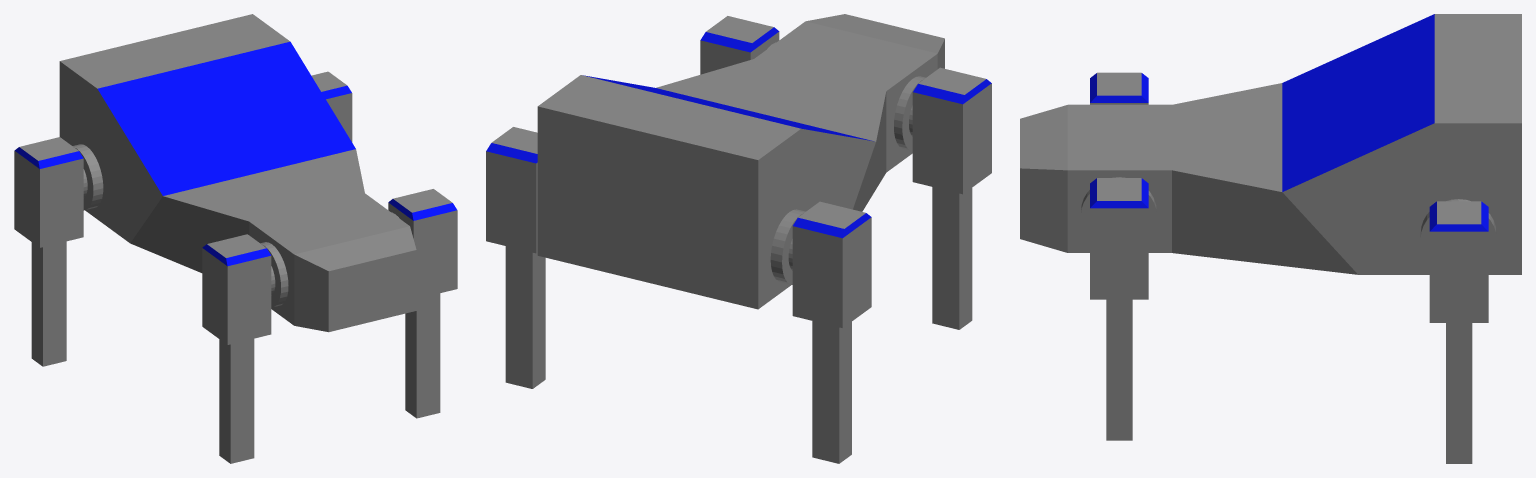
Rendered from LegWalker.fbx.
3 renders of one model, left to right at view 1: azimuth 30°, elevation 25°; view 2: azimuth 150°, elevation 25°; view 3: azimuth 270°, elevation 25°, orthographic. The views are drawn at different scales.
Visible parts, largest first — view 1: WalkerBody, Legs; view 2: WalkerBody, Legs; view 3: WalkerBody, Legs.
Boxes of the visible parts, bbox=[...] form: WalkerBody: bbox=[59, 14, 416, 332]; Legs: bbox=[14, 71, 457, 463]; WalkerBody: bbox=[537, 14, 944, 309]; Legs: bbox=[486, 16, 991, 463]; WalkerBody: bbox=[1020, 14, 1521, 274]; Legs: bbox=[1081, 72, 1496, 463].
Size of the model in its own units: 550 by 454 by 660.
